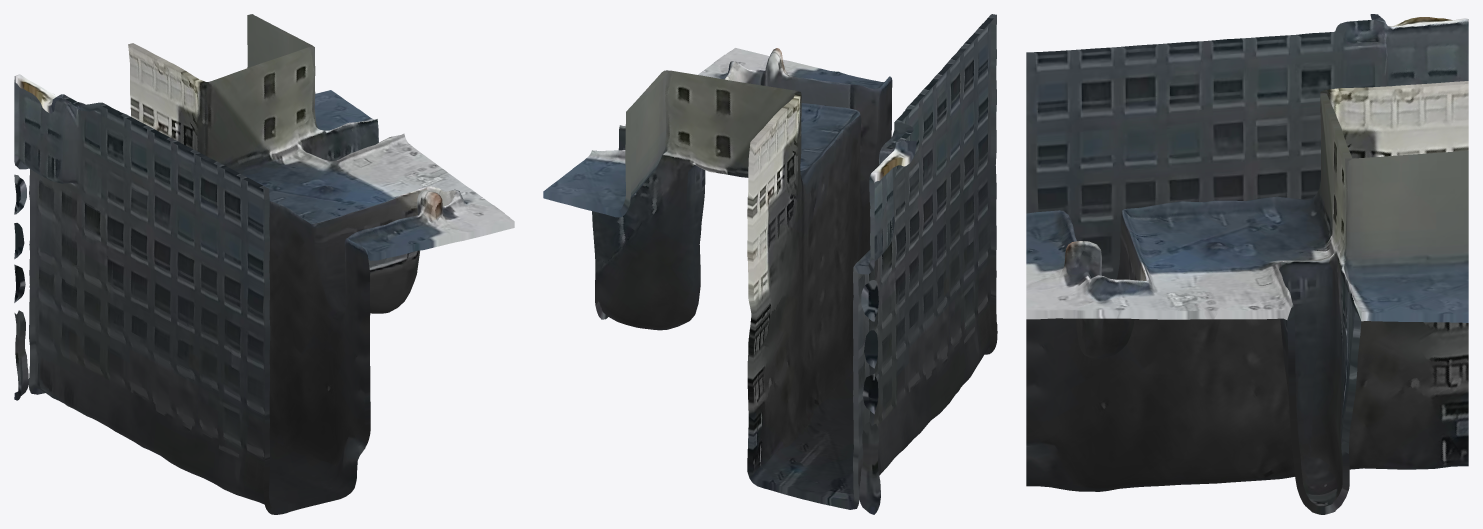
Rendered from z20-167761-405239-h0-yup-uvflip-v3-world.glb.
3 views of the same model, side by side, from view 1: azimuth 30°, elevation 25°; view 2: azimuth 150°, elevation 25°; view 3: azimuth 270°, elevation 25° (orthographic). The views are drawn at different scales.
Bounding box in the file's own units: 30.2 × 30.04 × 30.32.
1 material, 1 textured.
